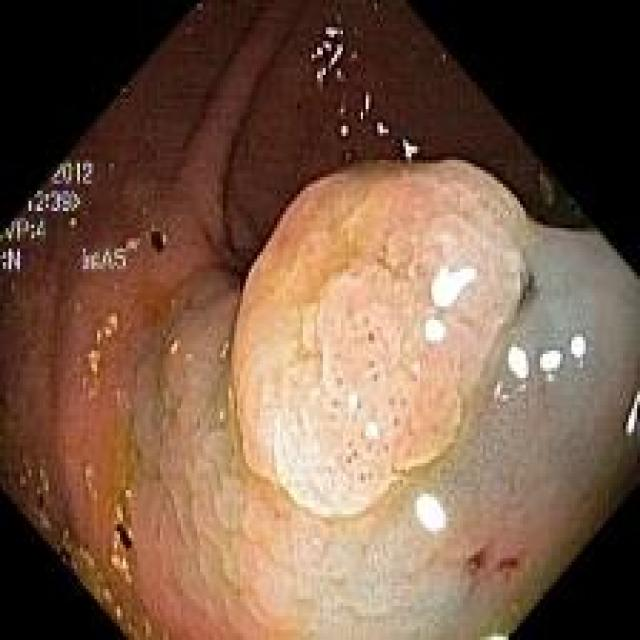Polyps: (232, 161, 531, 519)
